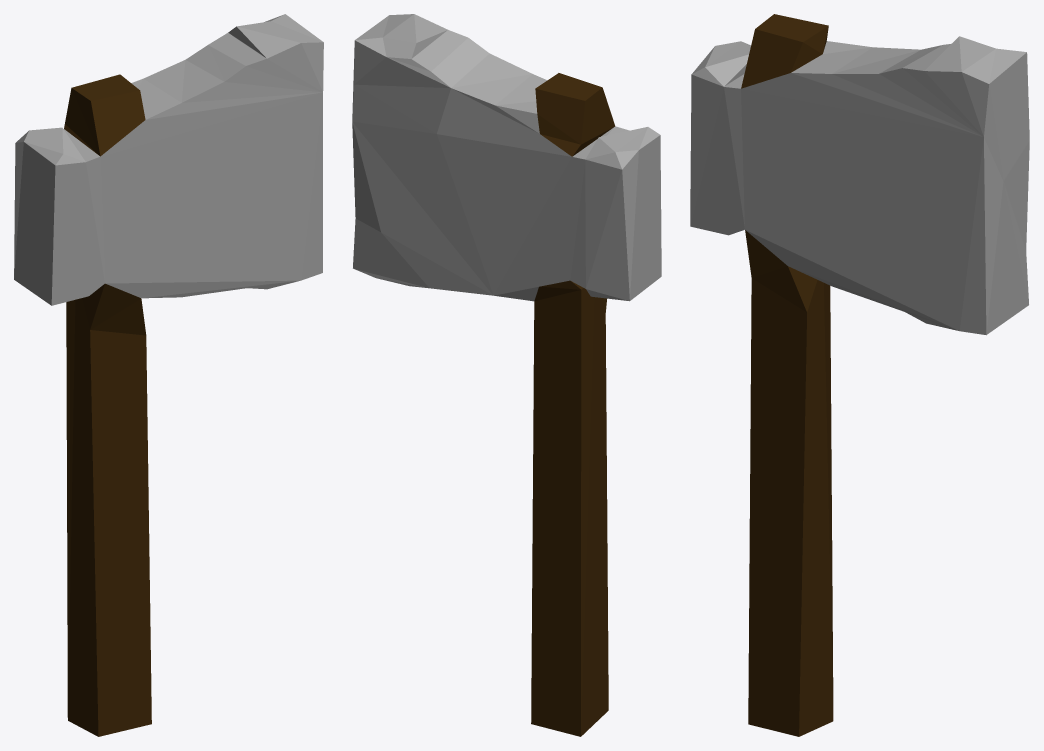
File: axe.glb
3 renders of one model, left to right at view 1: azimuth 30°, elevation 25°; view 2: azimuth 150°, elevation 25°; view 3: azimuth 330°, elevation 25°, orthographic. The views are drawn at different scales.
Parts seen in each view (by area): view 1: Cube-col; view 2: Cube-col; view 3: Cube-col.
Boxes of the visible parts, x1,y1,x2,y2 form: Cube-col: [14, 14, 323, 736]; Cube-col: [352, 14, 661, 736]; Cube-col: [690, 14, 1029, 736].
Bounding box in the file's own units: 0.9287 × 2.1 × 0.2399.
